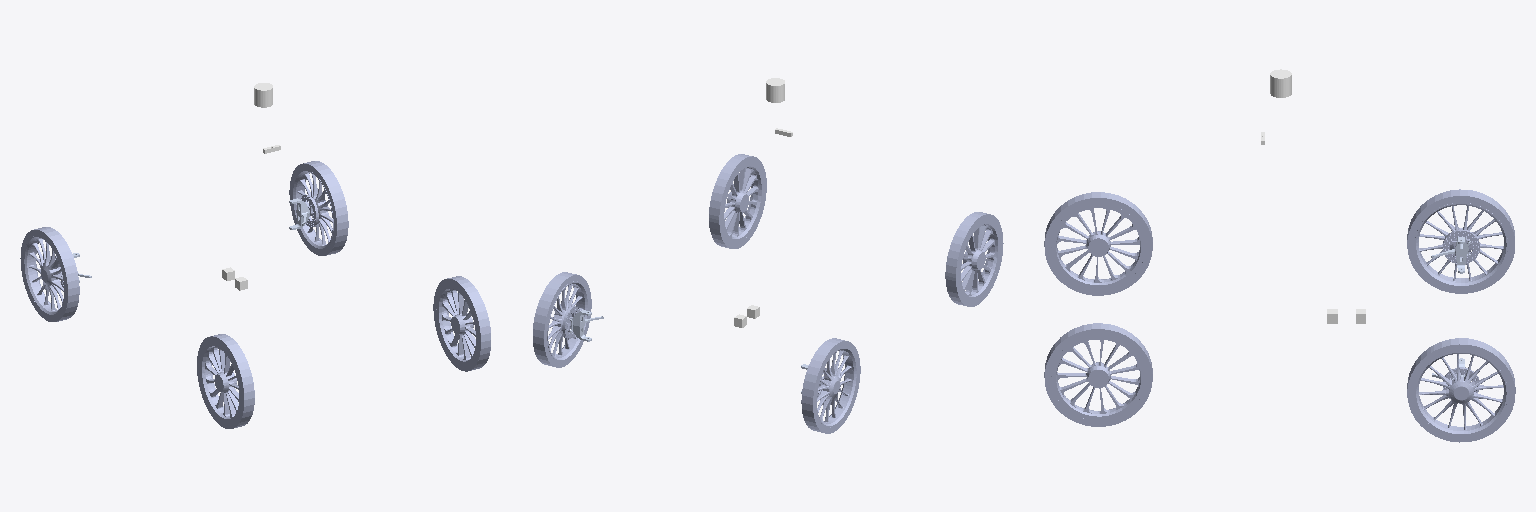
The robot description file, URDF, robot "araba_v2":
<?xml version="1.0" encoding="utf-8"?>
<!-- This URDF was automatically created by SolidWorks to URDF Exporter! Originally created by Stephen Brawner (brawner@gmail.com) 
     Commit Version: 1.6.0-4-g7f85cfe  Build Version: 1.6.7995.38578
     For more information, please see http://wiki.ros.org/sw_urdf_exporter -->
<robot
  name="araba_v2">
  <link
    name="base_link">
    <inertial>
      <origin
        xyz="0.67496 -1.538 0.36002"
        rpy="0 0 0" />
      <mass
        value="100.8" />
      <inertia
        ixx="1264.2"
        ixy="-0.0081159"
        ixz="0.00046409"
        iyy="290.17"
        iyz="-71.699"
        izz="1438.3" />
    </inertial>
    <visual>
      <origin
        xyz="0 0 0"
        rpy="0 0 0" />
      <geometry>
        <mesh
          filename="package://araba_v2/meshes/base_link.STL" />
      </geometry>
      <material
        name="">
        <color
          rgba="0.86667 0.9098 1 1" />
      </material>
    </visual>
    <collision>
      <origin
        xyz="0 0 0"
        rpy="0 0 0" />
      <geometry>
        <mesh
          filename="package://araba_v2/meshes/base_link.STL" />
      </geometry>
    </collision>
  </link>
  <link
    name="on_sag_yatay_direksiyon_hareket_link">
    <inertial>
      <origin
        xyz="-0.033113 -0.0035226 -3.9973E-08"
        rpy="0 0 0" />
      <mass
        value="0.85066" />
      <inertia
        ixx="0.0018544"
        ixy="-0.0001198"
        ixz="-1.4313E-09"
        iyy="0.0018695"
        iyz="-4.3929E-09"
        izz="0.00089782" />
    </inertial>
    <visual>
      <origin
        xyz="0 0 0"
        rpy="0 0 0" />
      <geometry>
        <mesh
          filename="package://araba_v2/meshes/on_sag_yatay_direksiyon_hareket_link.STL" />
      </geometry>
      <material
        name="">
        <color
          rgba="0.86667 0.9098 1 1" />
      </material>
    </visual>
    <collision>
      <origin
        xyz="0 0 0"
        rpy="0 0 0" />
      <geometry>
        <mesh
          filename="package://araba_v2/meshes/on_sag_yatay_direksiyon_hareket_link.STL" />
      </geometry>
    </collision>
  </link>
  <joint
    name="on_sag_yatay_direksiyon_hareket"
    type="revolute">
    <origin
      xyz="1.4181 -0.35491 0.055943"
      rpy="0 0 0" />
    <parent
      link="base_link" />
    <child
      link="on_sag_yatay_direksiyon_hareket_link" />
    <axis
      xyz="0 0 1" />
    <limit
      lower="-0.5236"
      upper="0.5236"
      effort="10"
      velocity="5" />
    <dynamics damping="0.5" friction="0.1" />
  </joint>
  <link
    name="on_sag_ileri_donus_hareket">
    <inertial>
      <origin
        xyz="0.065735 1.2454E-05 -4.2322E-08"
        rpy="0 0 0" />
      <mass
        value="20.541" />
      <inertia
        ixx="0.48865"
        ixy="-1.194E-13"
        ixz="-2.2672E-13"
        iyy="0.25619"
        iyz="6.4969E-13"
        izz="0.25619" />
    </inertial>
    <visual>
      <origin
        xyz="0 0 0"
        rpy="0 0 0" />
      <geometry>
        <mesh
          filename="package://araba_v2/meshes/on_sag_ileri_donus_hareket.STL" />
      </geometry>
      <material
        name="">
        <color
          rgba="0.79216 0.81961 0.93333 1" />
      </material>
    </visual>
    <collision>
      <origin
        xyz="0 0 0"
        rpy="0 0 0" />
      <geometry>
        <mesh
          filename="package://araba_v2/meshes/on_sag_ileri_donus_hareket.STL" />
      </geometry>
    </collision>
  </link>
  <joint
    name="on_sag_ileri_donus_hareket"
    type="continuous">
    <origin
      xyz="0 0 0"
      rpy="0 0 0" />
    <parent
      link="on_sag_yatay_direksiyon_hareket_link" />
    <child
      link="on_sag_ileri_donus_hareket" />
    <axis
      xyz="1 0 0" />
  </joint>
  <link
    name="on_sol_yatay_direksiyon_hareket_link">
    <inertial>
      <origin
        xyz="0.033112 -0.0035225 2.5337E-07"
        rpy="0 0 0" />
      <mass
        value="0.85067" />
      <inertia
        ixx="0.0018544"
        ixy="0.0001198"
        ixz="2.3235E-09"
        iyy="0.0018695"
        iyz="1.6117E-09"
        izz="0.00089783" />
    </inertial>
    <visual>
      <origin
        xyz="0 0 0"
        rpy="0 0 0" />
      <geometry>
        <mesh
          filename="package://araba_v2/meshes/on_sol_yatay_direksiyon_hareket_link.STL" />
      </geometry>
      <material
        name="">
        <color
          rgba="0.86667 0.9098 1 1" />
      </material>
    </visual>
    <collision>
      <origin
        xyz="0 0 0"
        rpy="0 0 0" />
      <geometry>
        <mesh
          filename="package://araba_v2/meshes/on_sol_yatay_direksiyon_hareket_link.STL" />
      </geometry>
    </collision>
  </link>
  <joint
    name="on_sol_yatay_direksiyon_hareket"
    type="revolute">
    <origin
      xyz="-0.068111 -0.35501 0.053282"
      rpy="0 0 0" />
    <parent
      link="base_link" />
    <child
      link="on_sol_yatay_direksiyon_hareket_link" />
    <axis
      xyz="0 0 1" />
    <limit
      lower="-0.5236"
      upper="0.5236"
      effort="10"
      velocity="5" />
    <dynamics damping="0.5" friction="0.1" />
  </joint>
  <link
    name="on_sol_ileri_donus_hareket">
    <inertial>
      <origin
        xyz="-0.065735 1.2454E-05 4.2322E-08"
        rpy="0 0 0" />
      <mass
        value="20.541" />
      <inertia
        ixx="0.48865"
        ixy="-2.3414E-13"
        ixz="-1.03E-13"
        iyy="0.25619"
        iyz="5.6461E-13"
        izz="0.25619" />
    </inertial>
    <visual>
      <origin
        xyz="0 0 0"
        rpy="0 0 0" />
      <geometry>
        <mesh
          filename="package://araba_v2/meshes/on_sol_ileri_donus_hareket.STL" />
      </geometry>
      <material
        name="">
        <color
          rgba="0.79216 0.81961 0.93333 1" />
      </material>
    </visual>
    <collision>
      <origin
        xyz="0 0 0"
        rpy="0 0 0" />
      <geometry>
        <mesh
          filename="package://araba_v2/meshes/on_sol_ileri_donus_hareket.STL" />
      </geometry>
    </collision>
  </link>
  <joint
    name="on_sol_ileri_donus_hareket"
    type="continuous">
    <origin
      xyz="0 0 0"
      rpy="0 0 0" />
    <parent
      link="on_sol_yatay_direksiyon_hareket_link" />
    <child
      link="on_sol_ileri_donus_hareket" />
    <axis
      xyz="1 0 0" />
  </joint>
  <link
    name="arka_sol_ileri_donus_hareket_link">
    <inertial>
      <origin
        xyz="-0.041261 -3.4017E-13 -4.1689E-13"
        rpy="0 0 0" />
      <mass
        value="9.9541" />
      <inertia
        ixx="0.34167"
        ixy="-4.1553E-17"
        ixz="-1.0505E-15"
        iyy="0.17442"
        iyz="7.1713E-17"
        izz="0.17442" />
    </inertial>
    <visual>
      <origin
        xyz="0 0 0"
        rpy="0 0 0" />
      <geometry>
        <mesh
          filename="package://araba_v2/meshes/arka_sol_ileri_donus_hareket_link.STL" />
      </geometry>
      <material
        name="">
        <color
          rgba="0.79216 0.81961 0.93333 1" />
      </material>
    </visual>
    <collision>
      <origin
        xyz="0 0 0"
        rpy="0 0 0" />
      <geometry>
        <mesh
          filename="package://araba_v2/meshes/arka_sol_ileri_donus_hareket_link.STL" />
      </geometry>
    </collision>
  </link>
  <joint
    name="arka_sol_ileri_donus_hareket"
    type="continuous">
    <origin
      xyz="-0.0005 -2.03 0.0875"
      rpy="0 0 0" />
    <parent
      link="base_link" />
    <child
      link="arka_sol_ileri_donus_hareket_link" />
    <axis
      xyz="1 0 0" />
  </joint>
  <link
    name="arka_sag_ileri_donus_hareket_link">
    <inertial>
      <origin
        xyz="0.041261 4.5519E-13 3.2935E-12"
        rpy="0 0 0" />
      <mass
        value="9.9541" />
      <inertia
        ixx="0.34167"
        ixy="4.1782E-17"
        ixz="-1.03E-15"
        iyy="0.17442"
        iyz="-1.9372E-18"
        izz="0.17442" />
    </inertial>
    <visual>
      <origin
        xyz="0 0 0"
        rpy="0 0 0" />
      <geometry>
        <mesh
          filename="package://araba_v2/meshes/arka_sag_ileri_donus_hareket_link.STL" />
      </geometry>
      <material
        name="">
        <color
          rgba="0.79216 0.81961 0.93333 1" />
      </material>
    </visual>
    <collision>
      <origin
        xyz="0 0 0"
        rpy="0 0 0" />
      <geometry>
        <mesh
          filename="package://araba_v2/meshes/arka_sag_ileri_donus_hareket_link.STL" />
      </geometry>
    </collision>
  </link>
  <joint
    name="arka_sag_ileri_donus_hareket"
    type="continuous">
    <origin
      xyz="1.3505 -2.03 0.0875"
      rpy="0 0 0" />
    <parent
      link="base_link" />
    <child
      link="arka_sag_ileri_donus_hareket_link" />
    <axis
      xyz="1 0 0" />
  </joint>
  <link
    name="imu_sensor_link">
    <inertial>
      <origin
        xyz="6.2172E-15 0.025 7.7716E-16"
        rpy="0 0 0" />
      <mass
        value="0.1275" />
      <inertia
        ixx="5.3125E-05"
        ixy="1.3357E-20"
        ixz="-1.6143E-20"
        iyy="5.3125E-05"
        iyz="2.3423E-21"
        izz="5.3125E-05" />
    </inertial>
    <visual>
      <origin
        xyz="0 0 0"
        rpy="0 0 0" />
      <geometry>
        <mesh
          filename="package://araba_v2/meshes/imu_sensor_link.STL" />
      </geometry>
      <material
        name="">
        <color
          rgba="1 1 1 1" />
      </material>
    </visual>
    <collision>
      <origin
        xyz="0 0 0"
        rpy="0 0 0" />
      <geometry>
        <mesh
          filename="package://araba_v2/meshes/imu_sensor_link.STL" />
      </geometry>
    </collision>
  </link>
  <joint
    name="imu_sensor"
    type="fixed">
    <origin
      xyz="0.675 -0.95107 0.0265"
      rpy="1.5708 0 1.5708" />
    <parent
      link="base_link" />
    <child
      link="imu_sensor_link" />
    <axis
      xyz="0 0 0" />
  </joint>
  <link
    name="gps_sensor_link">
    <inertial>
      <origin
        xyz="-1.7764E-15 6.1062E-15 0.025"
        rpy="0 0 0" />
      <mass
        value="0.1275" />
      <inertia
        ixx="5.3125E-05"
        ixy="-1.6143E-20"
        ixz="2.3423E-21"
        iyy="5.3125E-05"
        iyz="1.3357E-20"
        izz="5.3125E-05" />
    </inertial>
    <visual>
      <origin
        xyz="0 0 0"
        rpy="0 0 0" />
      <geometry>
        <mesh
          filename="package://araba_v2/meshes/gps_sensor_link.STL" />
      </geometry>
      <material
        name="">
        <color
          rgba="1 1 1 1" />
      </material>
    </visual>
    <collision>
      <origin
        xyz="0 0 0"
        rpy="0 0 0" />
      <geometry>
        <mesh
          filename="package://araba_v2/meshes/gps_sensor_link.STL" />
      </geometry>
    </collision>
  </link>
  <joint
    name="gps_sensor"
    type="fixed">
    <origin
      xyz="0.675 -0.81835 0.0265"
      rpy="0 0 0" />
    <parent
      link="base_link" />
    <child
      link="gps_sensor_link" />
    <axis
      xyz="0 0 0" />
  </joint>
  <link
    name="lidar_sensor_link">
    <inertial>
      <origin
        xyz="-8.6819E-14 0.0492 9.6034E-14"
        rpy="0 0 0" />
      <mass
        value="0.79619" />
      <inertia
        ixx="0.001145"
        ixy="-9.0985E-20"
        ixz="2.2626E-26"
        iyy="0.0010052"
        iyz="2.8831E-20"
        izz="0.001145" />
    </inertial>
    <visual>
      <origin
        xyz="0 0 0"
        rpy="0 0 0" />
      <geometry>
        <mesh
          filename="package://araba_v2/meshes/lidar_sensor_link.STL" />
      </geometry>
      <material
        name="">
        <color
          rgba="1 1 1 1" />
      </material>
    </visual>
    <collision>
      <origin
        xyz="0 0 0"
        rpy="0 0 0" />
      <geometry>
        <mesh
          filename="package://araba_v2/meshes/lidar_sensor_link.STL" />
      </geometry>
    </collision>
  </link>
  <joint
    name="lidar_sensor"
    type="fixed">
    <origin
      xyz="0.67509 -1.1873 1.1889"
      rpy="1.5708 0 1.5708" />
    <parent
      link="base_link" />
    <child
      link="lidar_sensor_link" />
    <axis
      xyz="0 0 0" />
  </joint>
  <link
    name="cam_sensor_link">
    <inertial>
      <origin
        xyz="0 0 0"
        rpy="0 0 0" />
      <mass
        value="0" />
      <inertia
        ixx="0"
        ixy="0"
        ixz="0"
        iyy="0"
        iyz="0"
        izz="0" />
    </inertial>
    <visual>
      <origin
        xyz="0 0 0"
        rpy="0 0 0" />
      <geometry>
        <mesh
          filename="package://araba_v2/meshes/cam_sensor_link.STL" />
      </geometry>
      <material
        name="">
        <color
          rgba="1 1 1 1" />
      </material>
    </visual>
    <collision>
      <origin
        xyz="0 0 0"
        rpy="0 0 0" />
      <geometry>
        <mesh
          filename="package://araba_v2/meshes/cam_sensor_link.STL" />
      </geometry>
    </collision>
  </link>
  <joint
    name="cam_sensor"
    type="fixed">
    <origin
      xyz="0.675 -1.2724 0.94789"
      rpy="0 0 0" />
    <parent
      link="base_link" />
    <child
      link="cam_sensor_link" />
    <axis
      xyz="0 0 0" />
  </joint>
</robot>

--- Facts derived from the render (not from the file) ---
The picture shows the robot from 3 angles, left to right: view 1: azimuth 30°, elevation 25°; view 2: azimuth 150°, elevation 25°; view 3: azimuth 270°, elevation 25°; orthographic projection.
Robot: araba_v2 — 11 links, 10 joints (2 revolute, 4 continuous, 4 fixed); root link base_link; default pose: all joints at 0.
Visible links, largest first — view 1: arka_sag_ileri_donus_hareket_link, arka_sol_ileri_donus_hareket_link, on_sol_ileri_donus_hareket, on_sag_ileri_donus_hareket; view 2: arka_sag_ileri_donus_hareket_link, arka_sol_ileri_donus_hareket_link, on_sol_ileri_donus_hareket, on_sag_ileri_donus_hareket; view 3: arka_sol_ileri_donus_hareket_link, arka_sag_ileri_donus_hareket_link, on_sag_ileri_donus_hareket, on_sol_ileri_donus_hareket, lidar_sensor_link.
Boxes of the visible links, x1,y1,x2,y2 form: arka_sag_ileri_donus_hareket_link: (433,276,490,371); arka_sol_ileri_donus_hareket_link: (197,334,254,428); on_sol_ileri_donus_hareket: (20,227,79,321); on_sag_ileri_donus_hareket: (289,161,348,255); arka_sag_ileri_donus_hareket_link: (709,154,766,248); arka_sol_ileri_donus_hareket_link: (945,212,1003,306); on_sol_ileri_donus_hareket: (801,338,860,433); on_sag_ileri_donus_hareket: (533,272,591,367); arka_sol_ileri_donus_hareket_link: (1044,192,1152,295); arka_sag_ileri_donus_hareket_link: (1044,323,1152,426); on_sag_ileri_donus_hareket: (1407,338,1515,442); on_sol_ileri_donus_hareket: (1407,189,1514,293); lidar_sensor_link: (1270,69,1291,97).
Size in the robot's own frame: 1.7 by 2.18 by 1.48 metres.
Meshes: 11 distinct files referenced, 10 mesh visuals loaded (10 binary STL); not drawn: 1 (reference not matched to a file when rendering).
